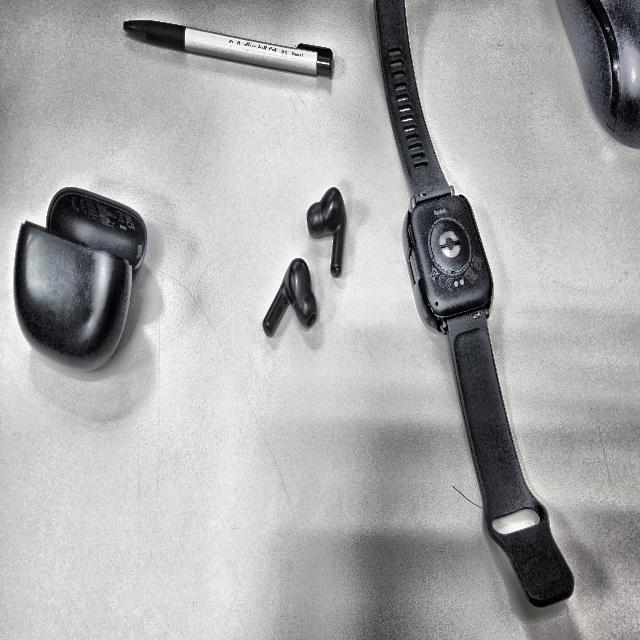Bluetooth headphones: (14, 188, 147, 370), (263, 258, 317, 336), (307, 188, 346, 277)
Electronic watch: (403, 195, 492, 330)
MOUSE: (556, 0, 640, 148)
